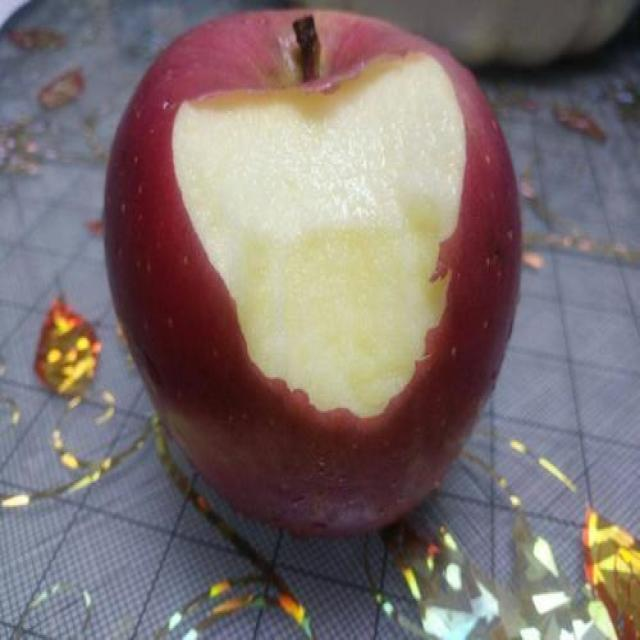Apple: (90, 13, 522, 535)
